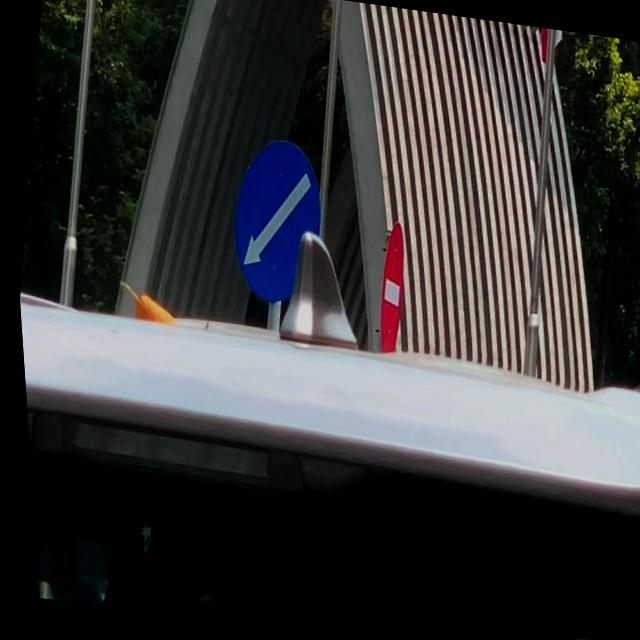Vong chuong ngai vat sang trai: (216, 134, 333, 308)
